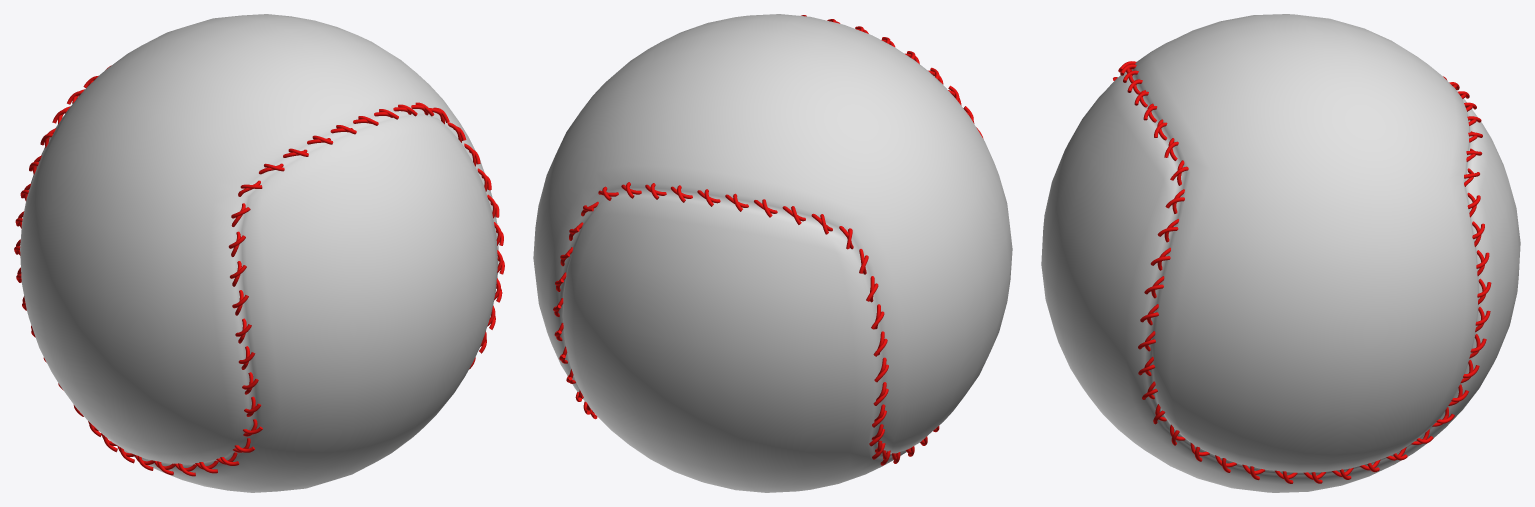
Rendered from baseball-inclue.glb.
3 views of the same model, side by side, from view 1: azimuth 30°, elevation 25°; view 2: azimuth 150°, elevation 25°; view 3: azimuth 270°, elevation 25° (orthographic).
Parts seen in each view (by area): view 1: BezierCurve; view 2: BezierCurve; view 3: BezierCurve.
Part boxes in pixels (x1=…): BezierCurve: x1=14, y1=14, x2=504, y2=492; BezierCurve: x1=533, y1=14, x2=1012, y2=492; BezierCurve: x1=1041, y1=14, x2=1520, y2=492.
Size of the model in its own units: 2.57 by 2.57 by 2.57.
